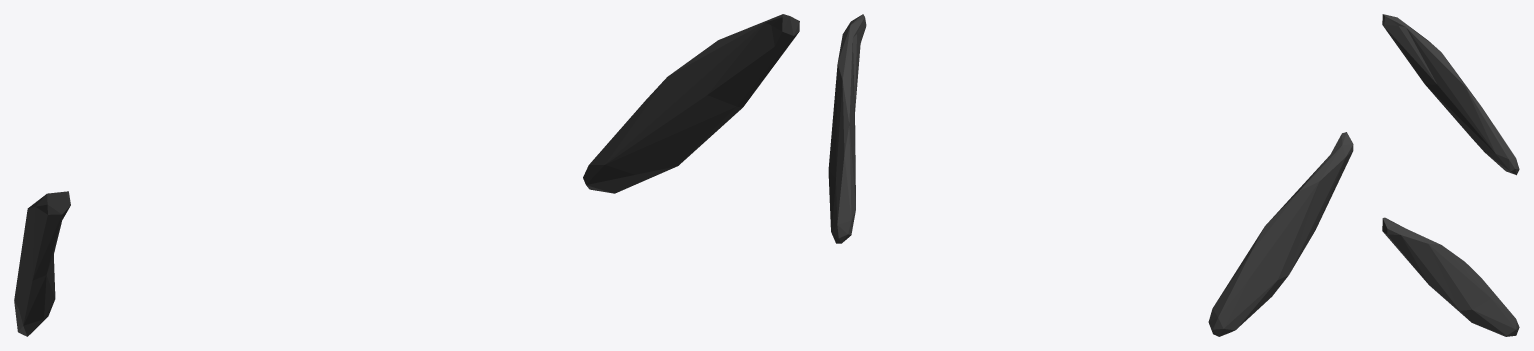
The model's file is m_soleus.glb.
3 views of the same model, side by side, from view 1: azimuth 30°, elevation 25°; view 2: azimuth 150°, elevation 25°; view 3: azimuth 270°, elevation 25° (orthographic). The views are drawn at different scales.
Visible parts, largest first — view 1: m_soleus; view 2: m_soleus; view 3: m_soleus.
Boxes of the visible parts, x1=… form: m_soleus: x1=14, y1=14, x2=799, y2=336; m_soleus: x1=828, y1=14, x2=1353, y2=336; m_soleus: x1=1382, y1=14, x2=1519, y2=336.
Size of the model in its own units: 0.00747 by 0.00228 by 0.00204.
Materials: 1 (1 with a texture image).
